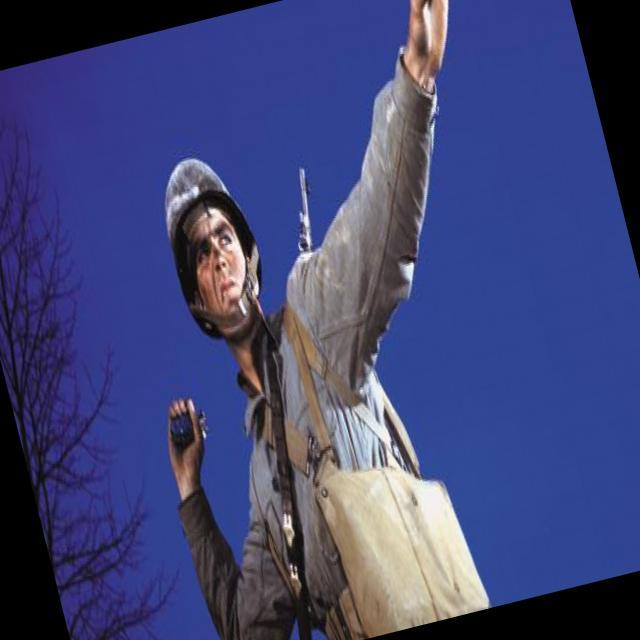grenade: (164, 396, 218, 458)
